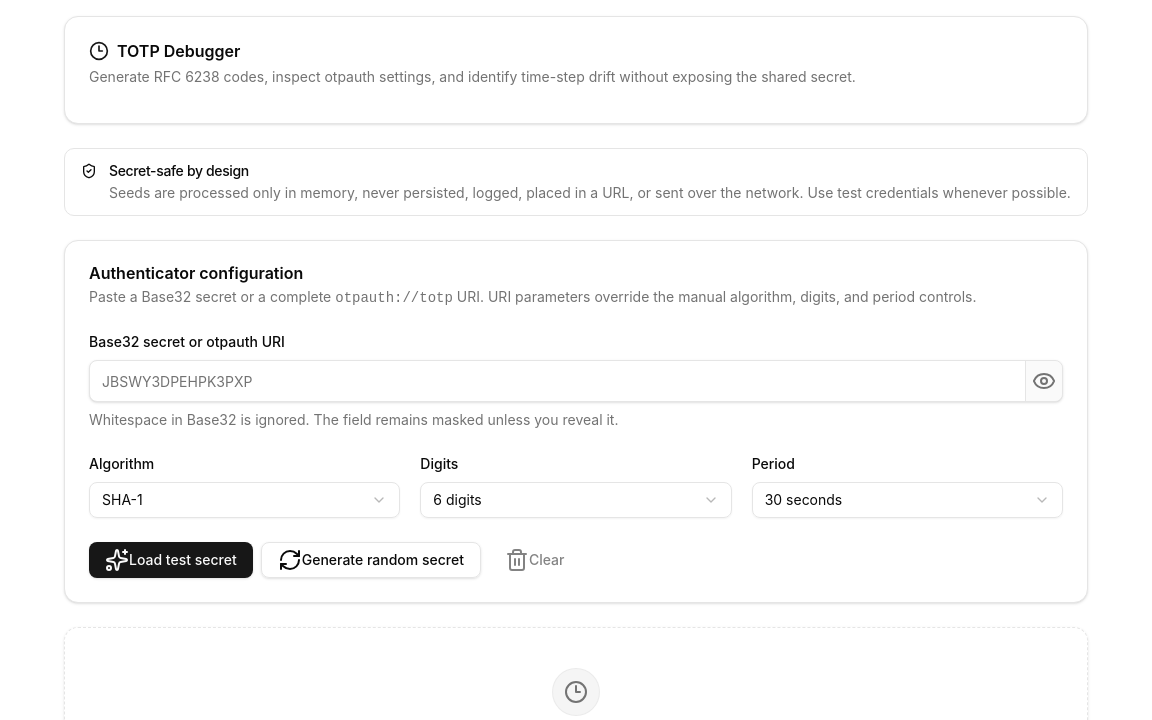
Test: TOTP Debugger › renders nonstandard digits and period parsed from an otpauth URI
Type "otpauth://totp/Example:alice?secret=JBSWY3DPEHPK3PXP&issuer=Example&digits=7&period=45" into the password field with test id "totp-secret-input". click: (558, 381)
box: x1=90 y1=361 x2=1025 y2=401
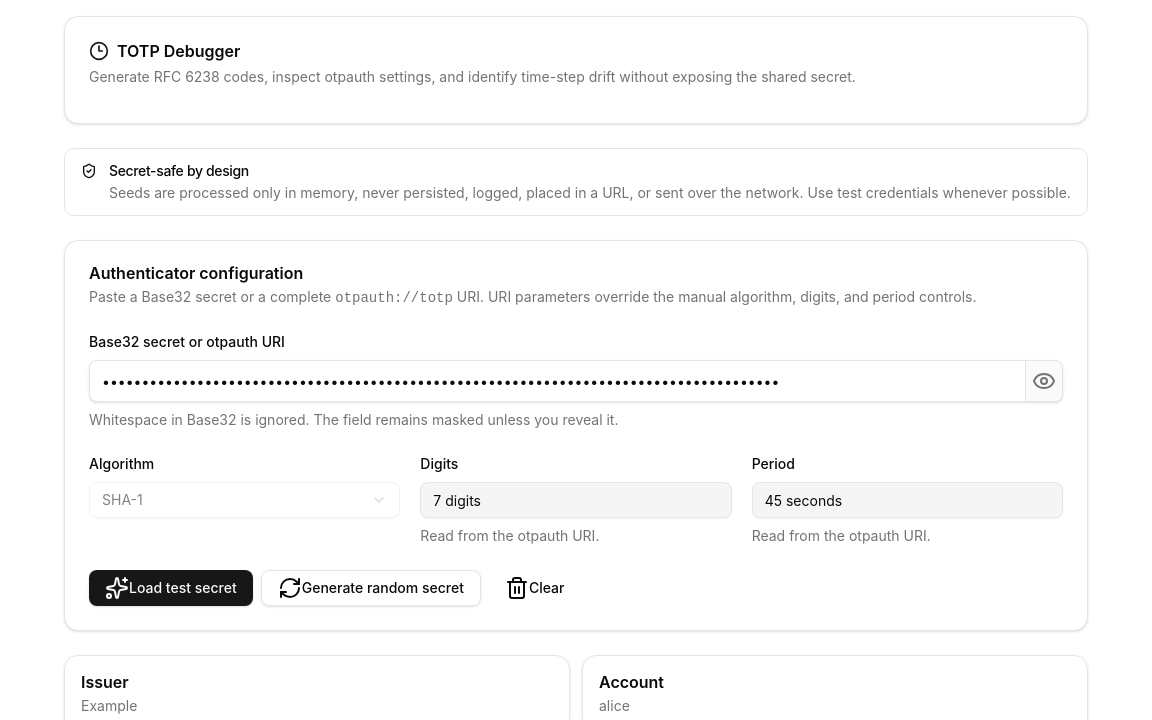
Expected: the field with test id "totp-effective-digits" holds "7 digits", x1=420 y1=482 x2=732 y2=518
Expected: the field with test id "totp-effective-period" holds "45 seconds", x1=752 y1=482 x2=1063 y2=518
Expected: the text "Read from the otpauth URI." is shown, x1=420 y1=527 x2=599 y2=544
